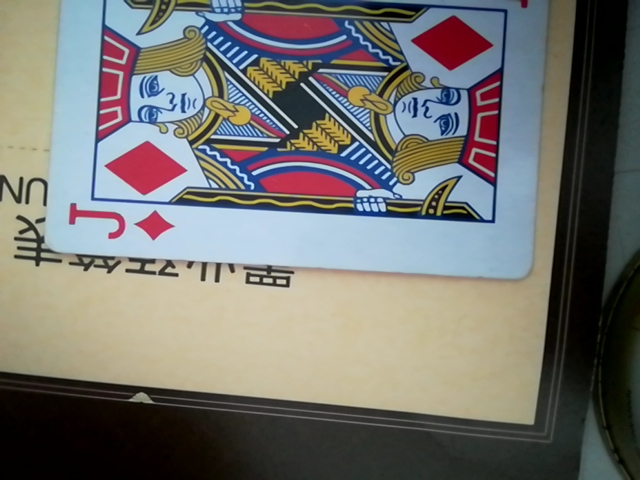fk j: (46, 0, 552, 282)
